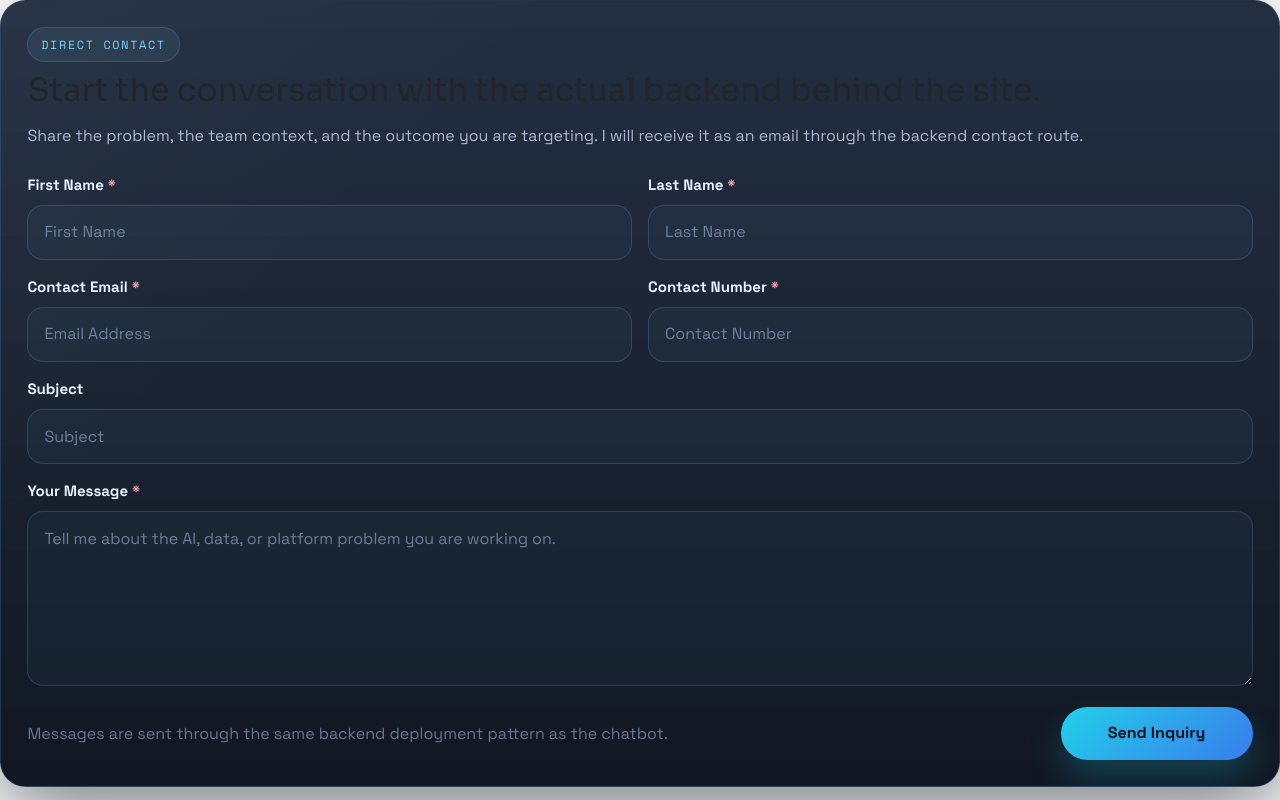
Test case: ContactForm › submits the expected payload to the contact endpoint
The width and height of the screenshot is (1280, 800).
Type "Jane" into the field with placeholder "First Name" at point(330, 232), box [27,205,632,260]
Type "Doe" into the field with placeholder "Last Name" at point(950, 232), box [648,205,1253,260]
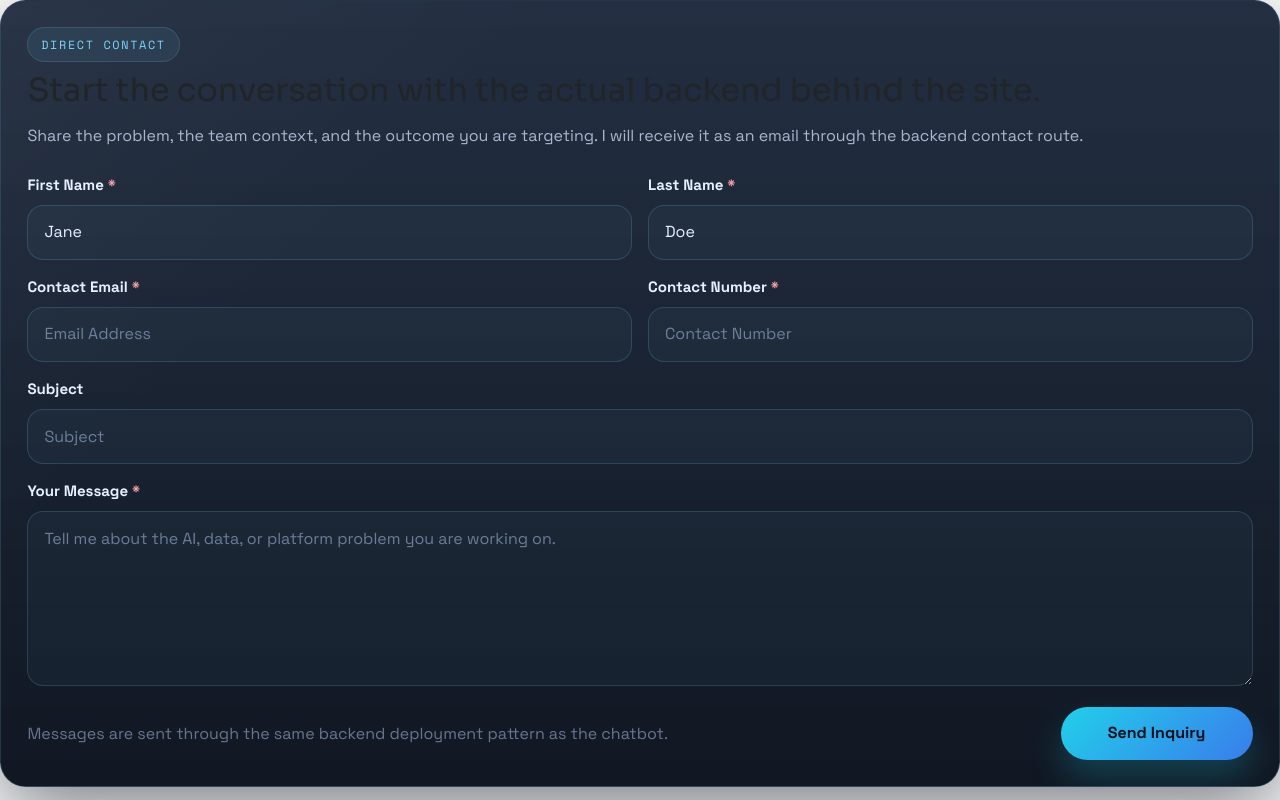
Type "jane@example.com" into the field with placeholder "Email Address" at point(330, 334), box [27,307,632,362]
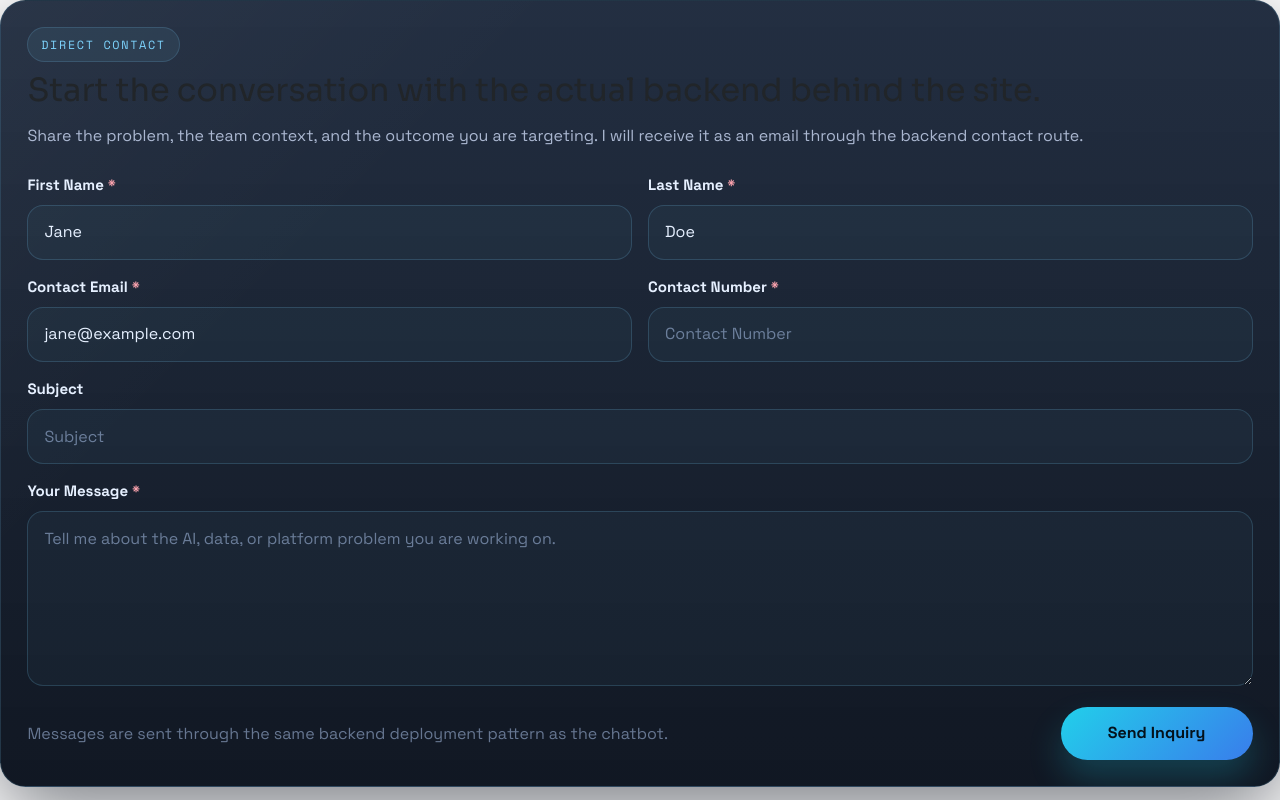
Type "+27821234567" into the field with placeholder "Contact Number" at point(950, 334), box [648,307,1253,362]
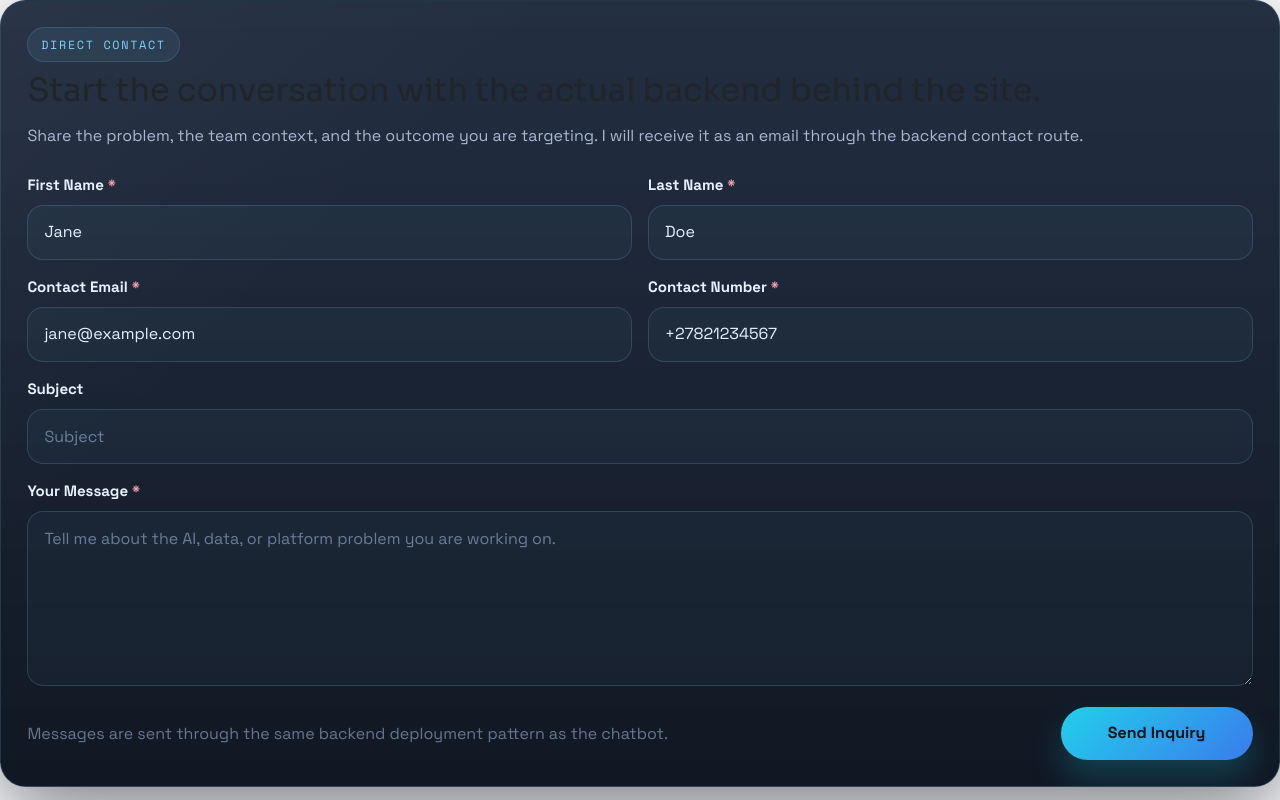
Type "Job inquiry" into the field with placeholder "Subject" at point(640, 437), box [27,409,1253,464]
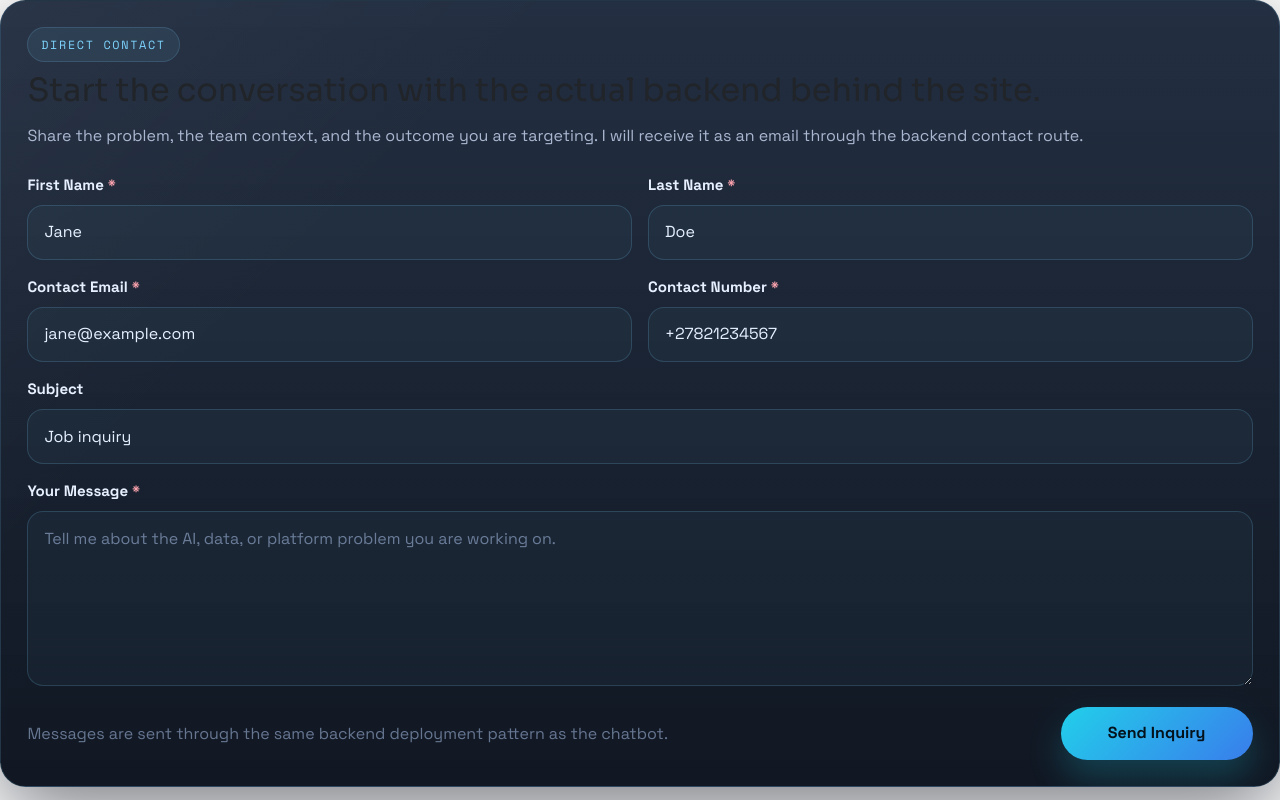
Replace the text in the text box with placeholder "Tell me about the AI" with "I would like to discuss a role with you." at point(640, 599), box [27,511,1253,686]
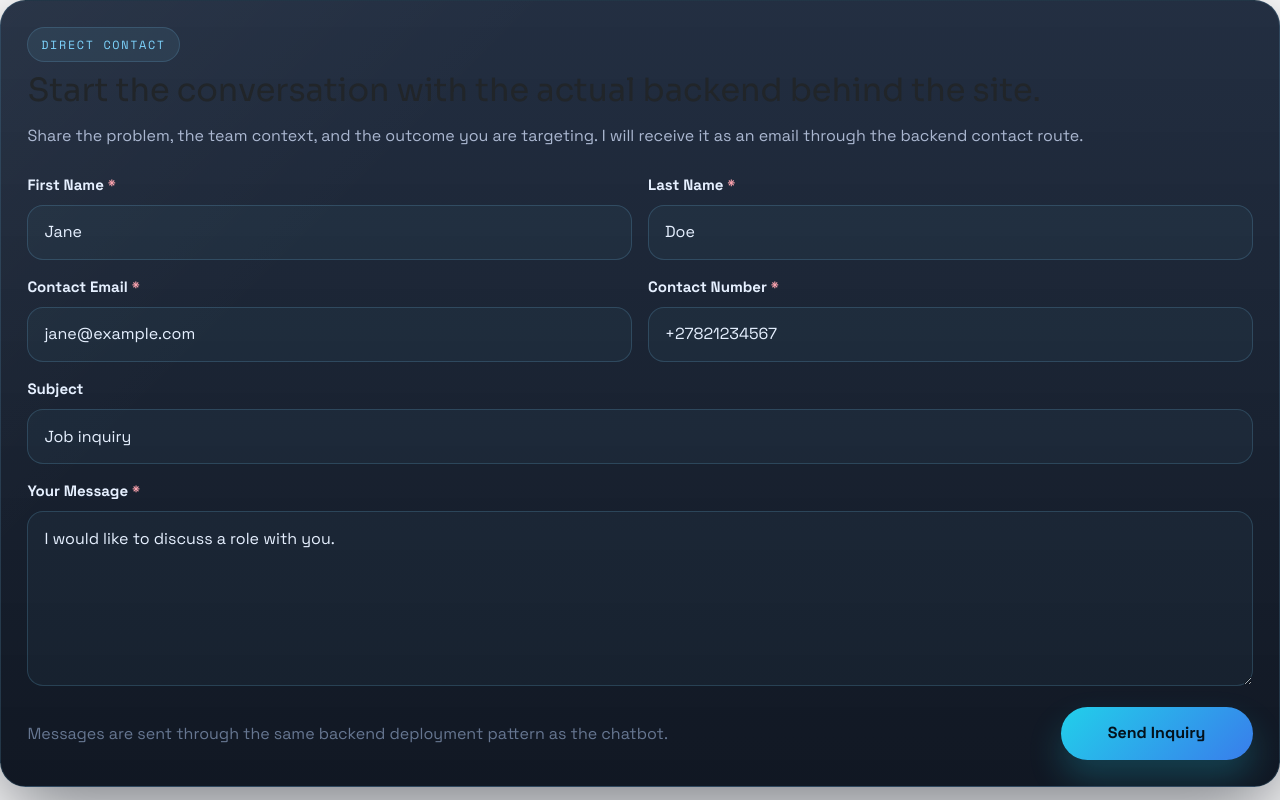
Click the button "Send Inquiry" at point(1157, 733), box [1061,707,1253,760]
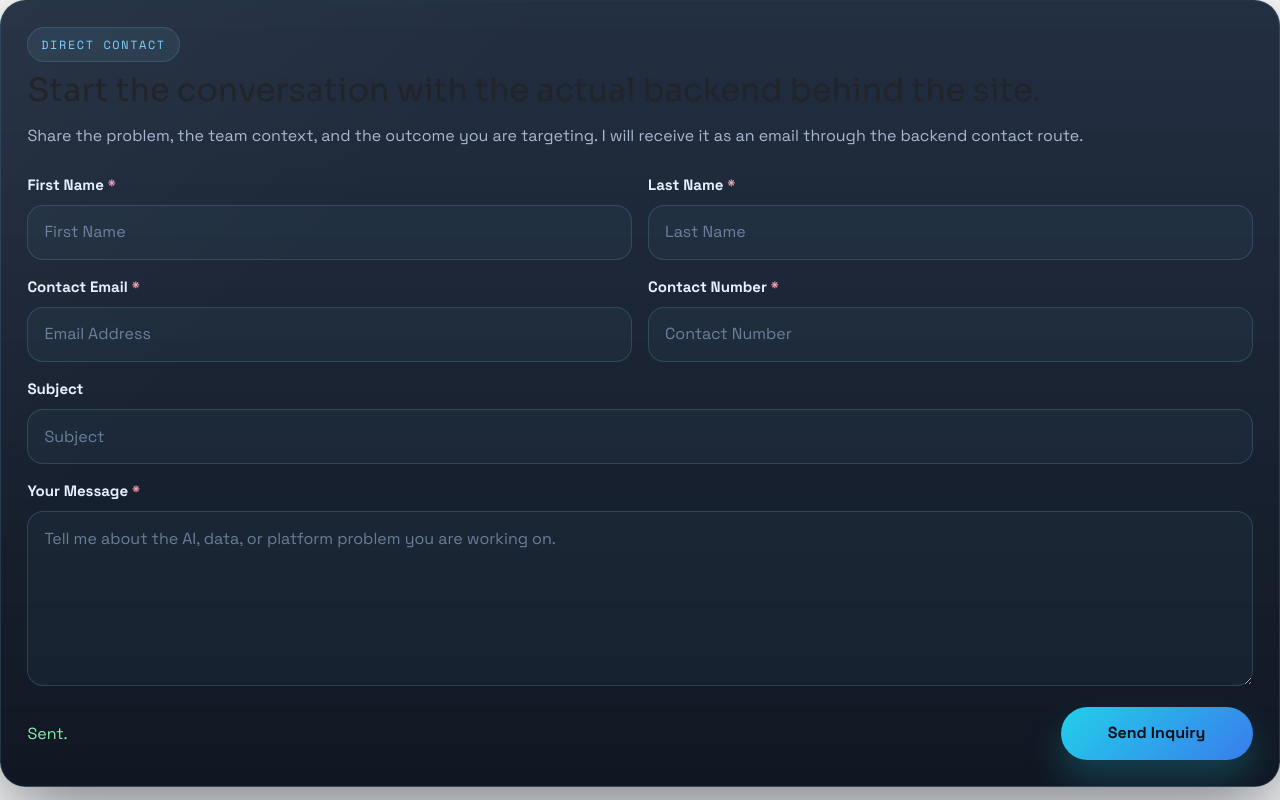
Result: the text "Sent." is shown at [27,723,68,744]
